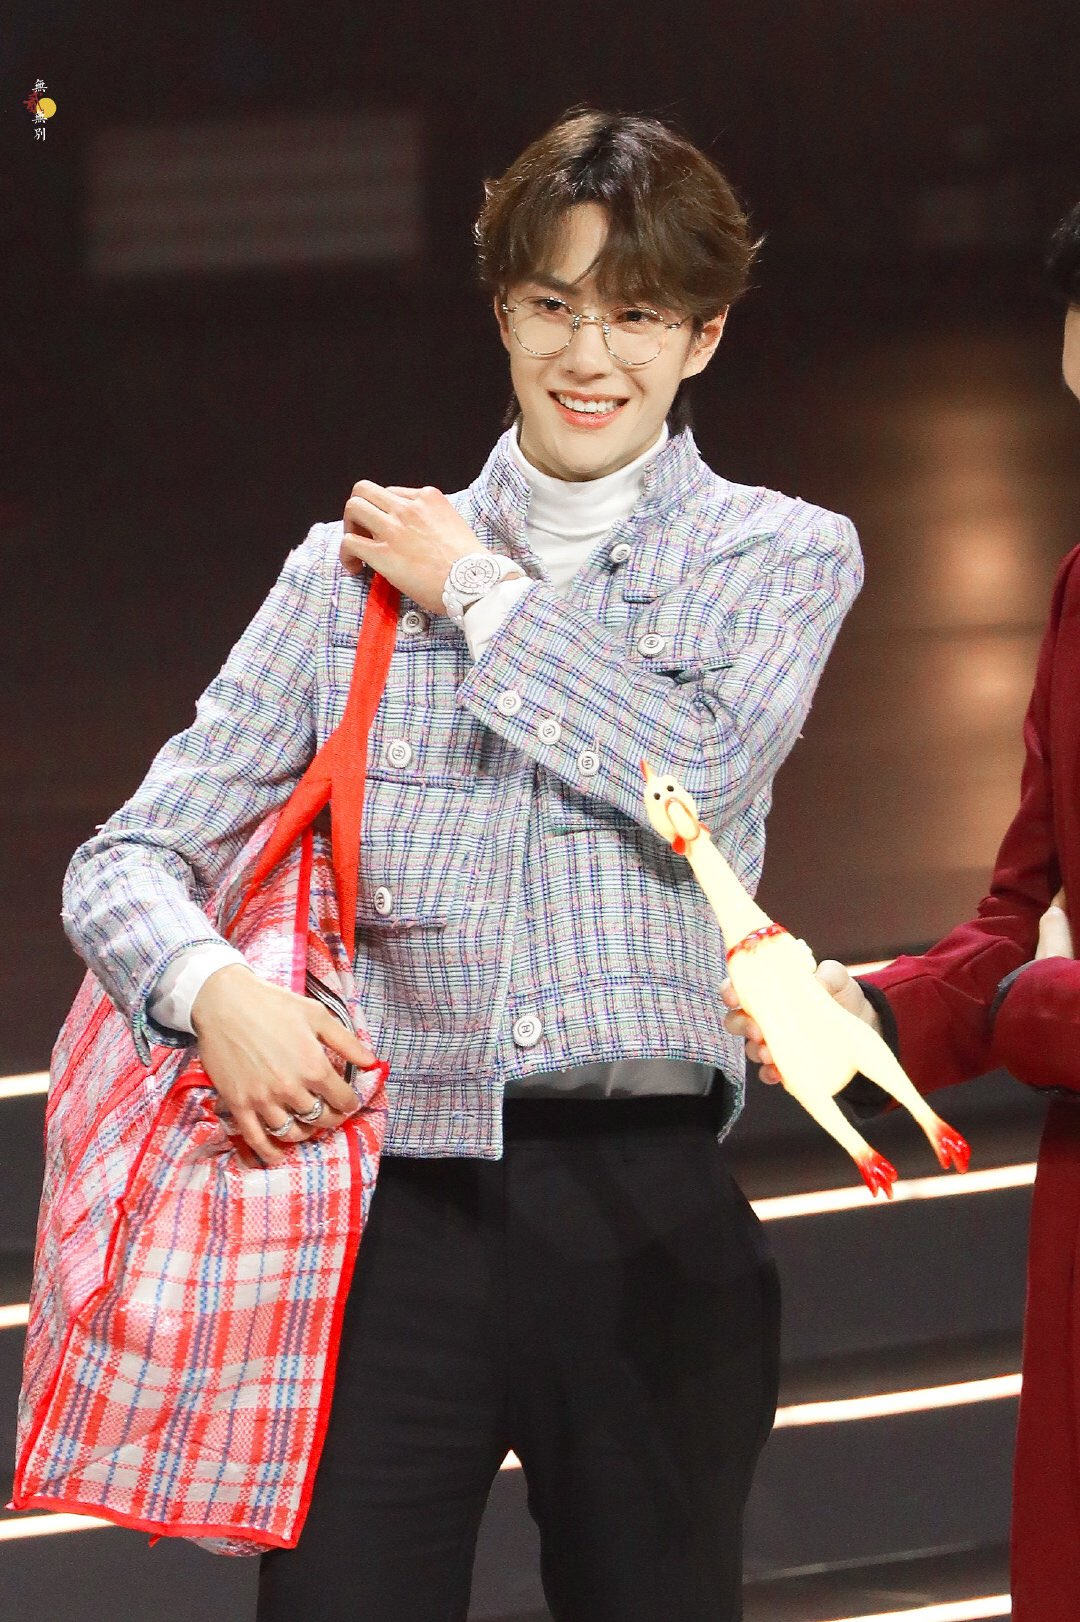bag: (24, 536, 379, 1561)
people: (74, 108, 898, 1622)
